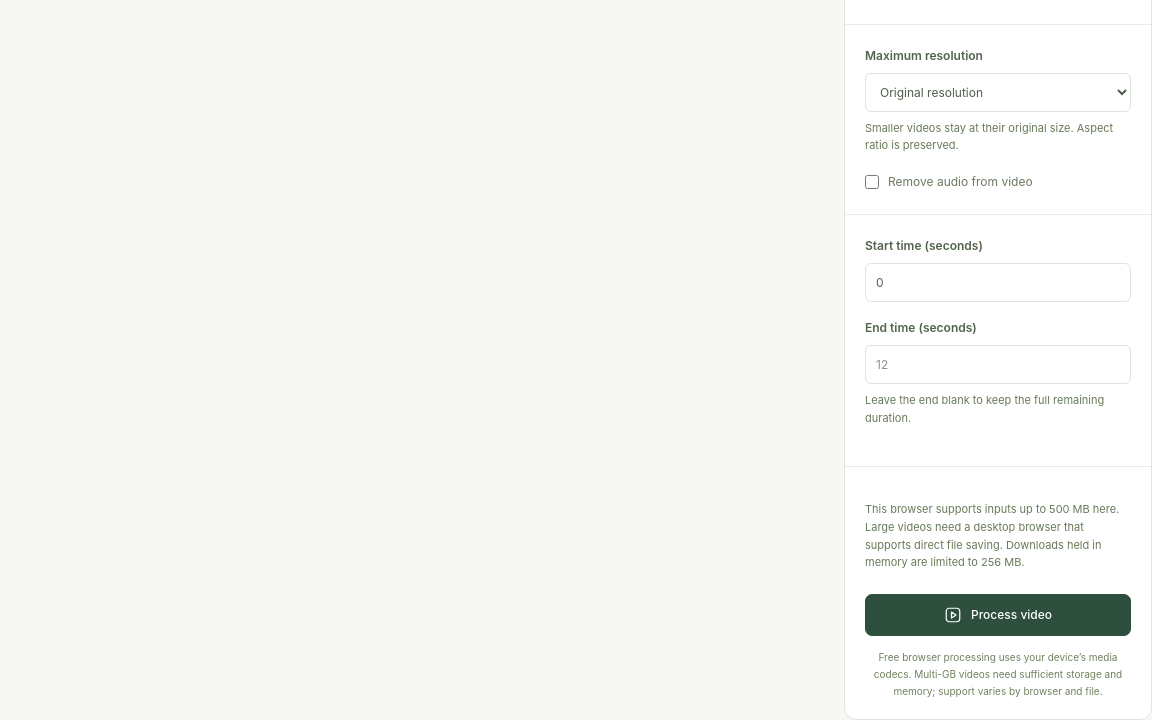
Test: does not claim savings when the processed video is larger
Earlier steps of the test are not shown.
(page scrolled)
Click the button "Process video" at (998, 615), box 865,594 -> 1131,636
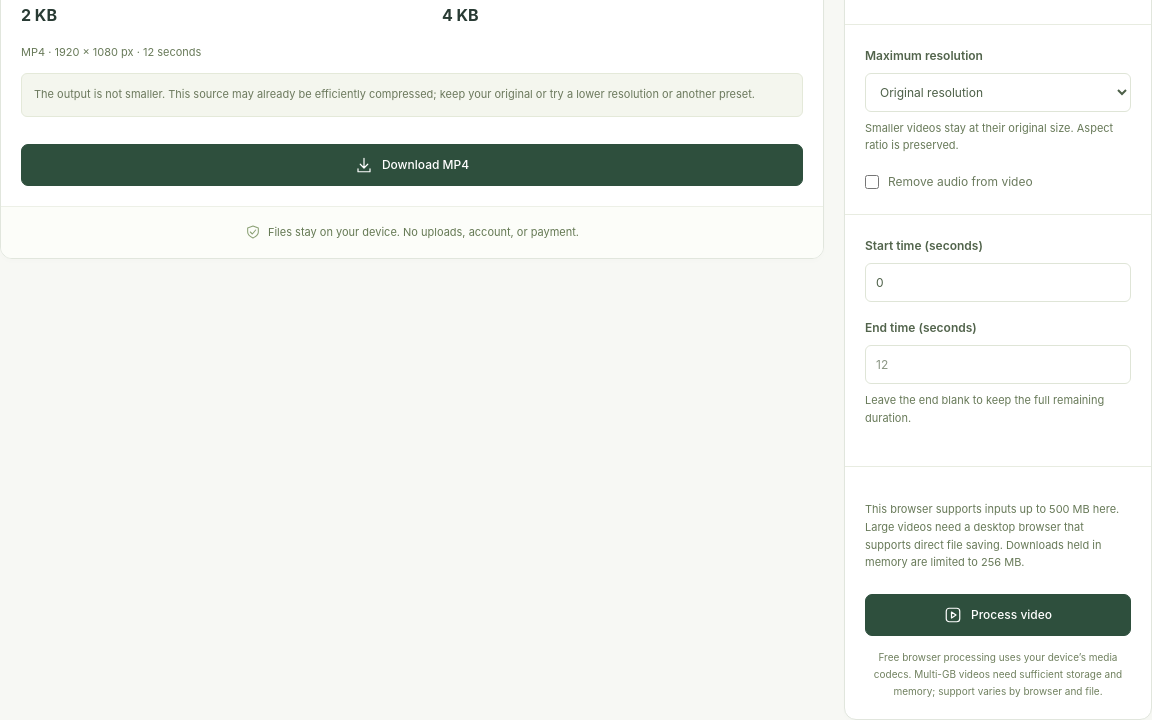
Now the text "The output is not smaller" is shown, box 34,87 -> 755,101
Now the text "4 KB" is shown, box 442,4 -> 479,24
